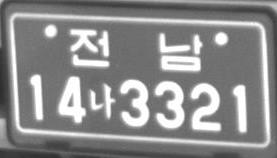1: (227, 84, 256, 133), (23, 73, 51, 120)
2: (190, 82, 221, 131)
3: (119, 78, 150, 128), (154, 80, 185, 129)
4: (57, 75, 86, 124)
나: (88, 81, 115, 120)
전남_D: (69, 28, 203, 72)
